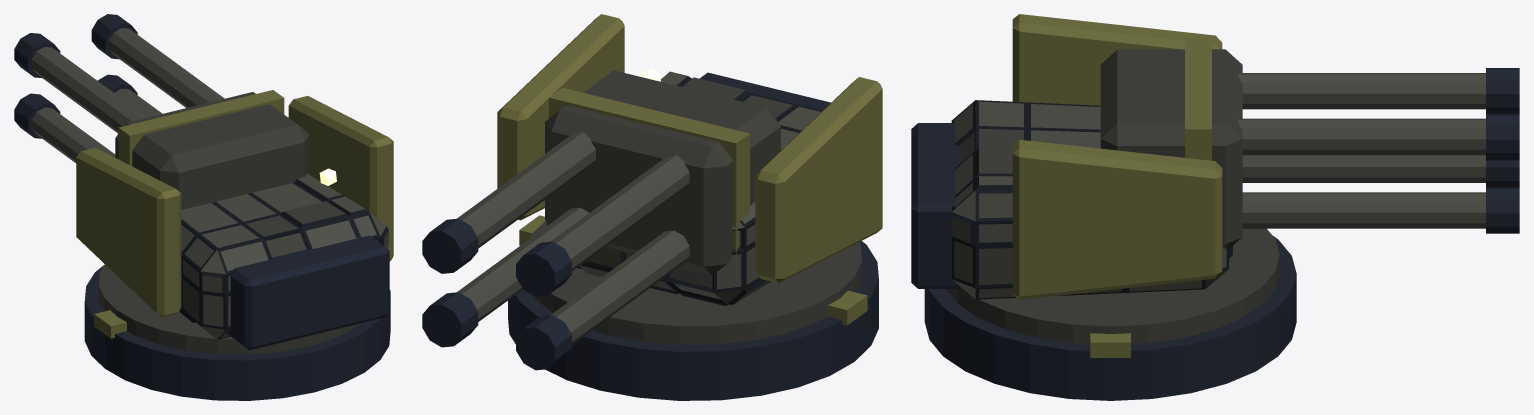
File: turret_flak_battery.glb
The picture shows the model from 3 angles, left to right: view 1: azimuth 30°, elevation 25°; view 2: azimuth 150°, elevation 25°; view 3: azimuth 270°, elevation 25°; orthographic projection. The views are drawn at different scales.
Parts seen in each view (by area): view 1: Yaw_mesh, Pitch_mesh, Base_mesh; view 2: Pitch_mesh, Yaw_mesh, Base_mesh; view 3: Yaw_mesh, Pitch_mesh, Base_mesh.
Boxes of the visible parts, x1,y1,x2,y2 form: Yaw_mesh: [76, 96, 393, 350]; Pitch_mesh: [14, 14, 309, 209]; Base_mesh: [84, 264, 390, 400]; Pitch_mesh: [422, 70, 780, 370]; Yaw_mesh: [497, 14, 882, 306]; Base_mesh: [508, 215, 878, 400]; Yaw_mesh: [911, 14, 1232, 299]; Pitch_mesh: [1100, 37, 1519, 248]; Base_mesh: [924, 228, 1296, 400].
Bounding box in the file's own units: 1.12 × 0.7876 × 1.8.
